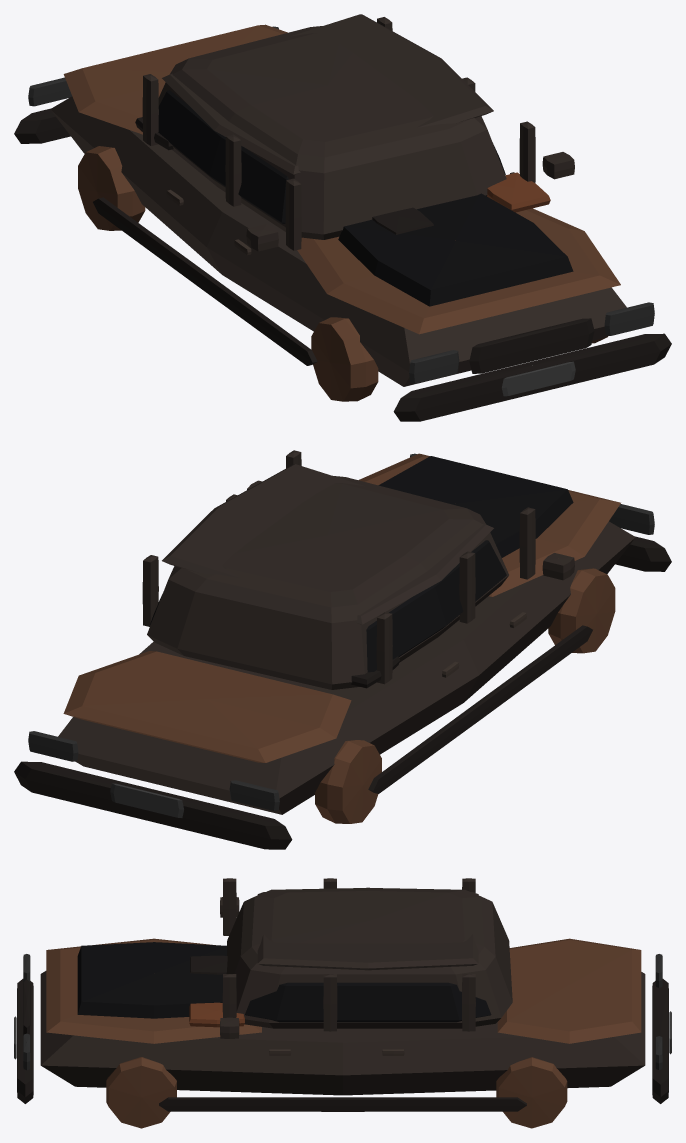
The model's file is s-burnt-taxi.glb.
3 views of the same model, one above another, from view 1: azimuth 30°, elevation 25°; view 2: azimuth 150°, elevation 25°; view 3: azimuth 270°, elevation 25° (orthographic). The views are drawn at different scales.
Visible parts, largest first — view 1: p; view 2: p; view 3: p.
Part boxes in pixels (x1,y1,x2,y2): p: (14, 14, 671, 421); p: (14, 450, 671, 849); p: (14, 878, 671, 1128).
Size of the model in its own units: 2.16 by 1.22 by 4.6.
